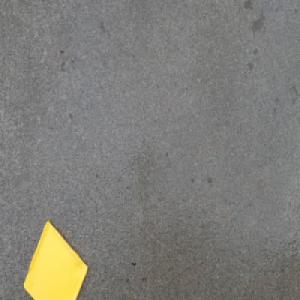PlasticPart: (22, 215, 89, 300)
